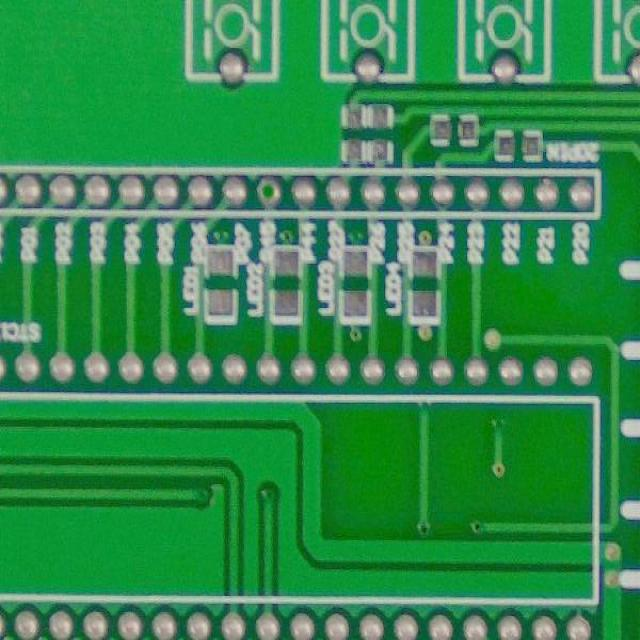missing hole: (254, 170, 286, 210)
